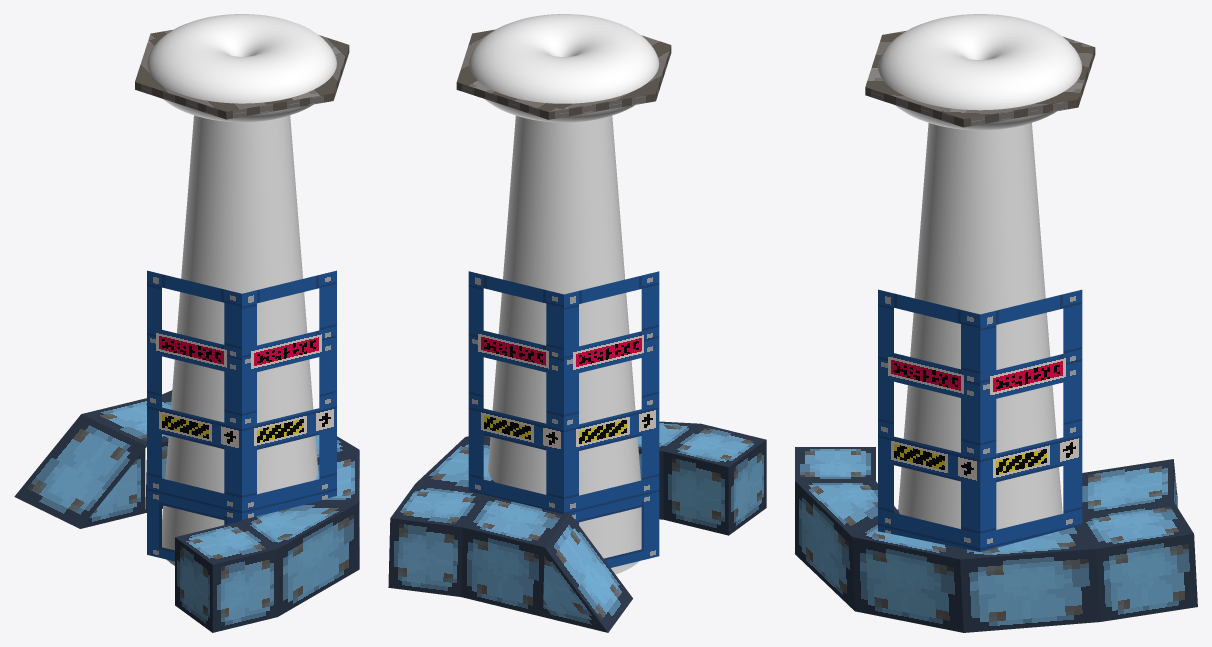
File: lightning.glb
3 renders of one model, left to right at view 1: azimuth 30°, elevation 25°; view 2: azimuth 150°, elevation 25°; view 3: azimuth 270°, elevation 25°, orthographic. The views are drawn at different scales.
Parts seen in each view (by area): view 1: core, lightningtowerBase, lightningtowerShaft, blackrings, lightningtowerhead; view 2: core, lightningtowerBase, lightningtowerShaft, blackrings, lightningtowerhead; view 3: lightningtowerBase, core, lightningtowerShaft, blackrings, lightningtowerhead.
Part boxes in pixels (x1,y1,x2,y2): core: (162,115,317,565); lightningtowerBase: (14,390,359,632); lightningtowerShaft: (147,270,336,561); blackrings: (147,14,336,122); lightningtowerhead: (135,29,349,119); core: (488,115,641,574); lightningtowerBase: (388,421,766,632); lightningtowerShaft: (468,271,659,567); blackrings: (469,14,659,122); lightningtowerhead: (456,29,671,119); lightningtowerBase: (795,447,1197,632); core: (898,123,1062,529); lightningtowerShaft: (878,289,1082,551); blackrings: (878,14,1081,130); lightningtowerhead: (865,30,1095,127).
Size of the model in its own units: 26.27 by 51.77 by 34.89.
5 materials, 3 textured.
